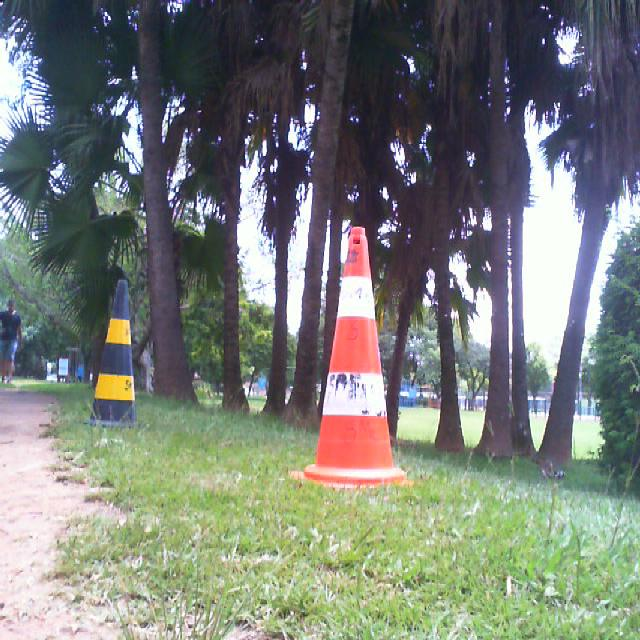cone: (289, 227, 422, 485), (83, 278, 150, 426)
